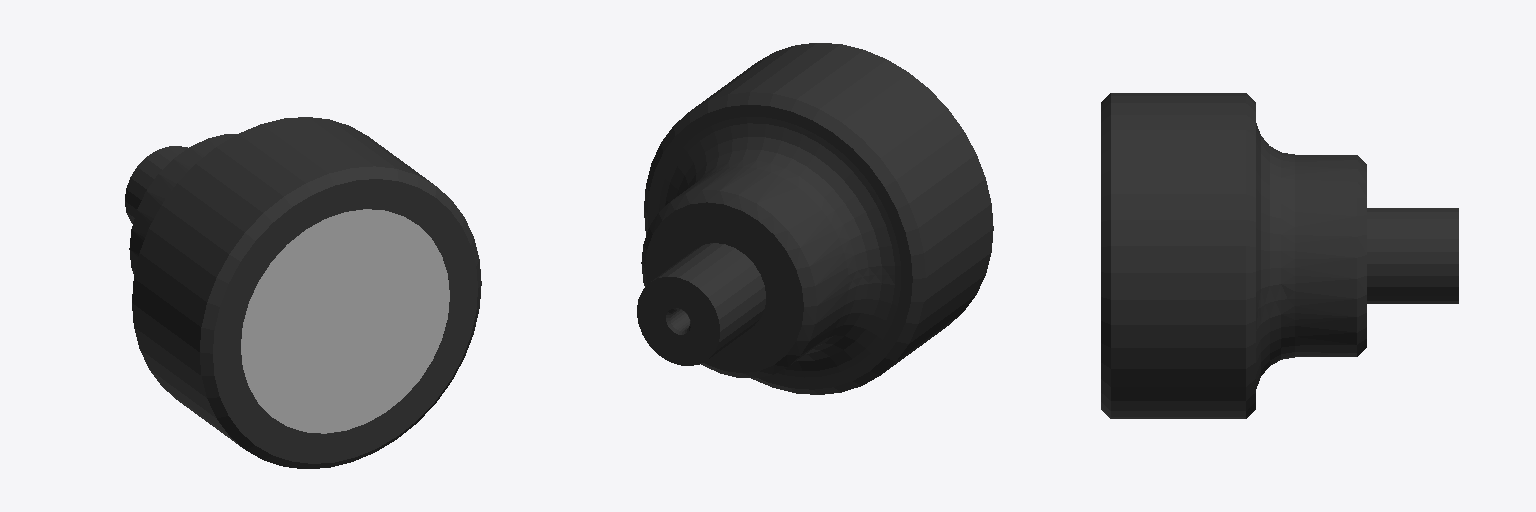
The picture shows the model from 3 angles: view 1: azimuth 30°, elevation 25°; view 2: azimuth 150°, elevation 25°; view 3: azimuth 270°, elevation 25°; orthographic projection.
Parts seen in each view (by area): view 1: gn_3663-34-m3-1_1; view 2: gn_3663-34-m3-1_1; view 3: gn_3663-34-m3-1_1.
Part boxes in pixels (bbox=[...]): gn_3663-34-m3-1_1: bbox=[125, 117, 481, 468]; gn_3663-34-m3-1_1: bbox=[637, 43, 993, 394]; gn_3663-34-m3-1_1: bbox=[1101, 93, 1458, 418].
Bounding box in the file's own units: 33.7 × 33.58 × 37.